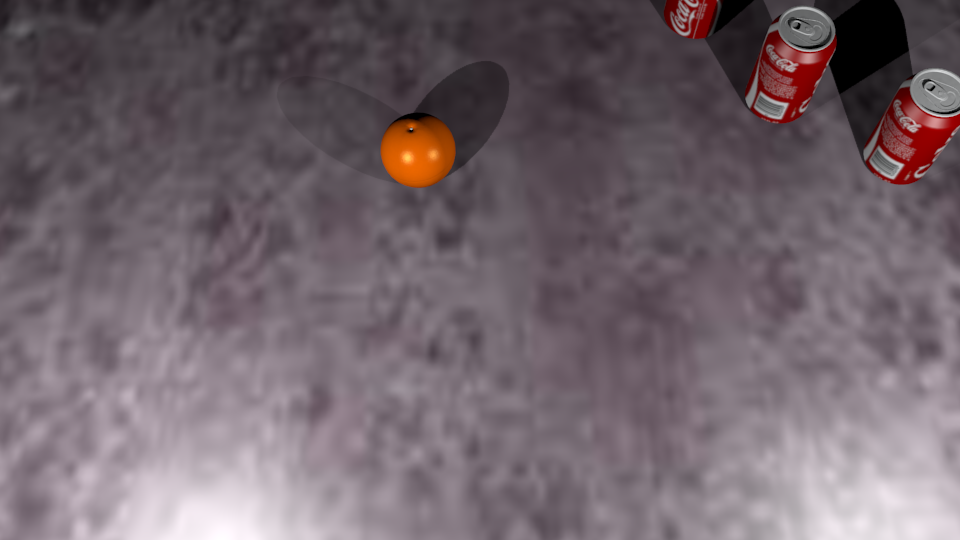cola_can: (864, 69, 960, 185), (746, 6, 837, 124), (665, 1, 730, 39)
orange: (381, 120, 456, 188)
